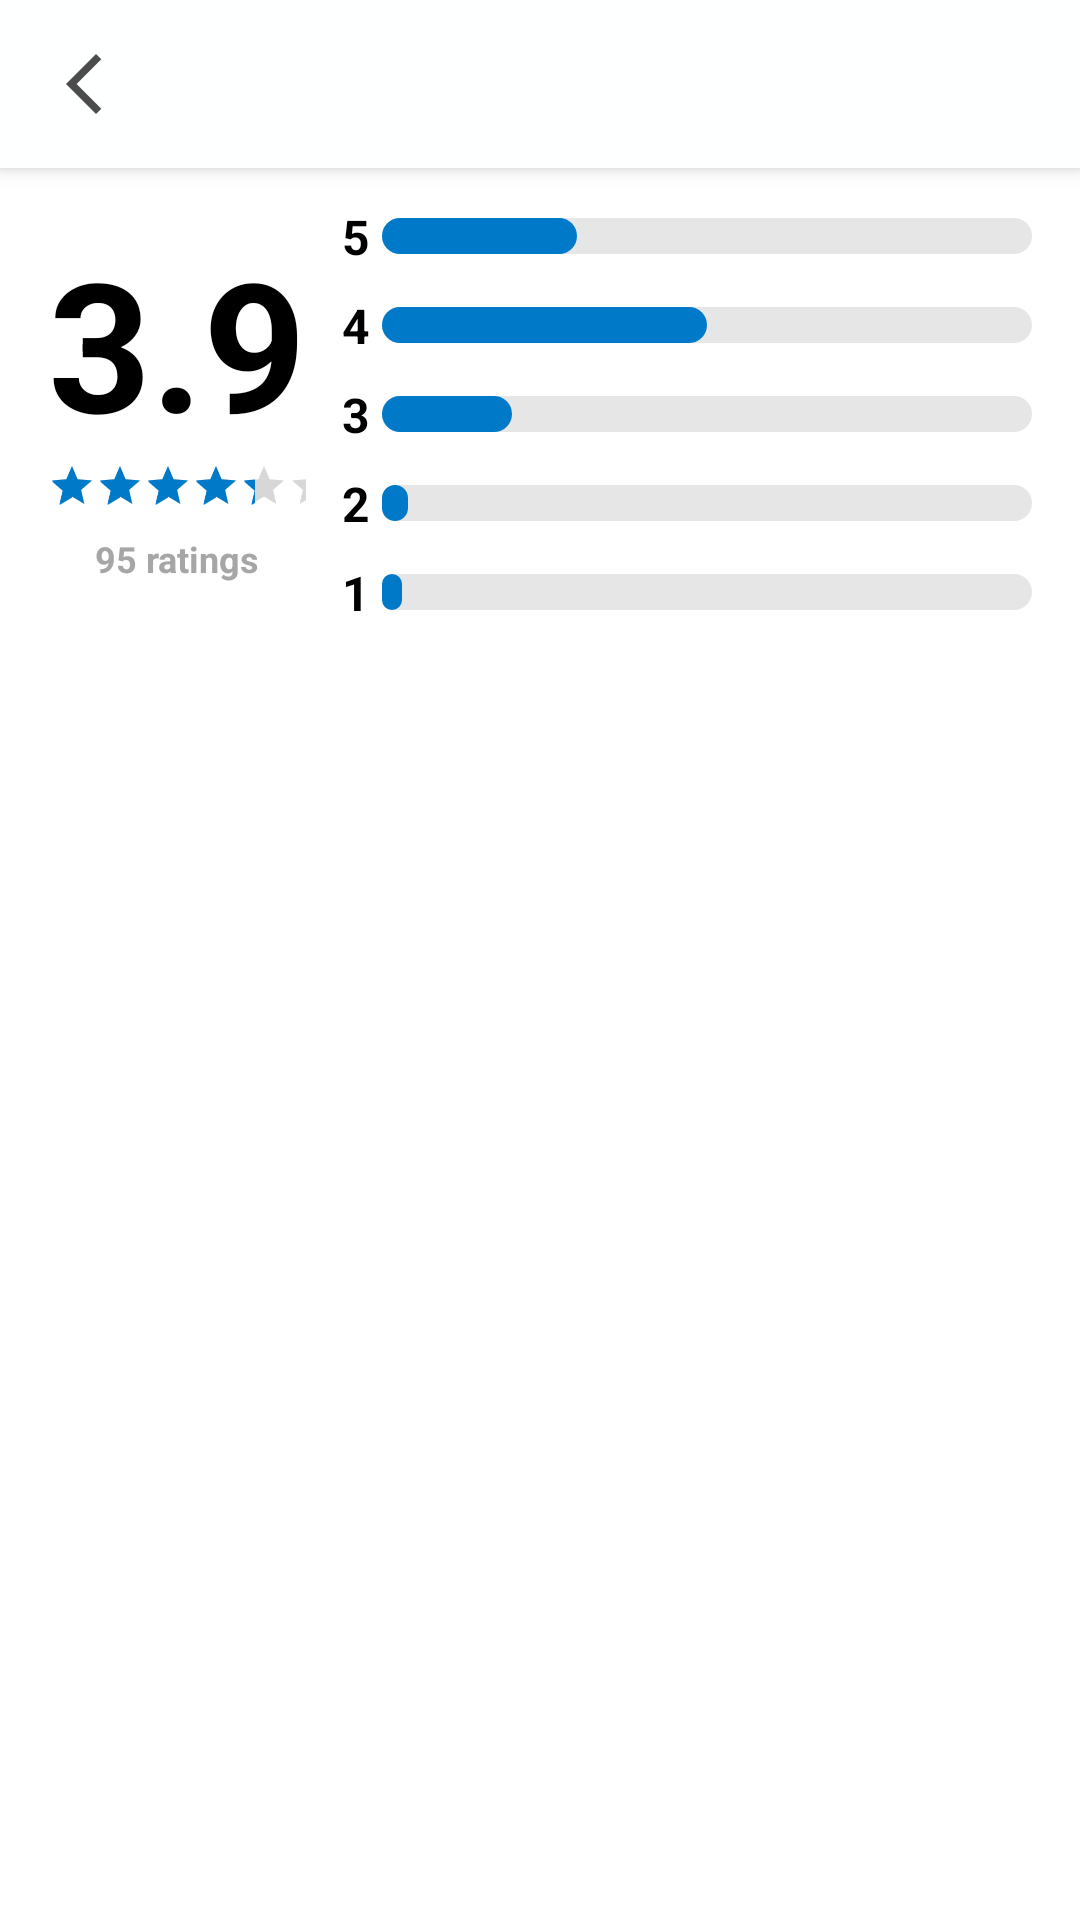

Icons on this 1080px x 1920px Android screen, each with its box as rect(x1, y1, x2, y2):
arrow back: rect(66, 54, 101, 114)
